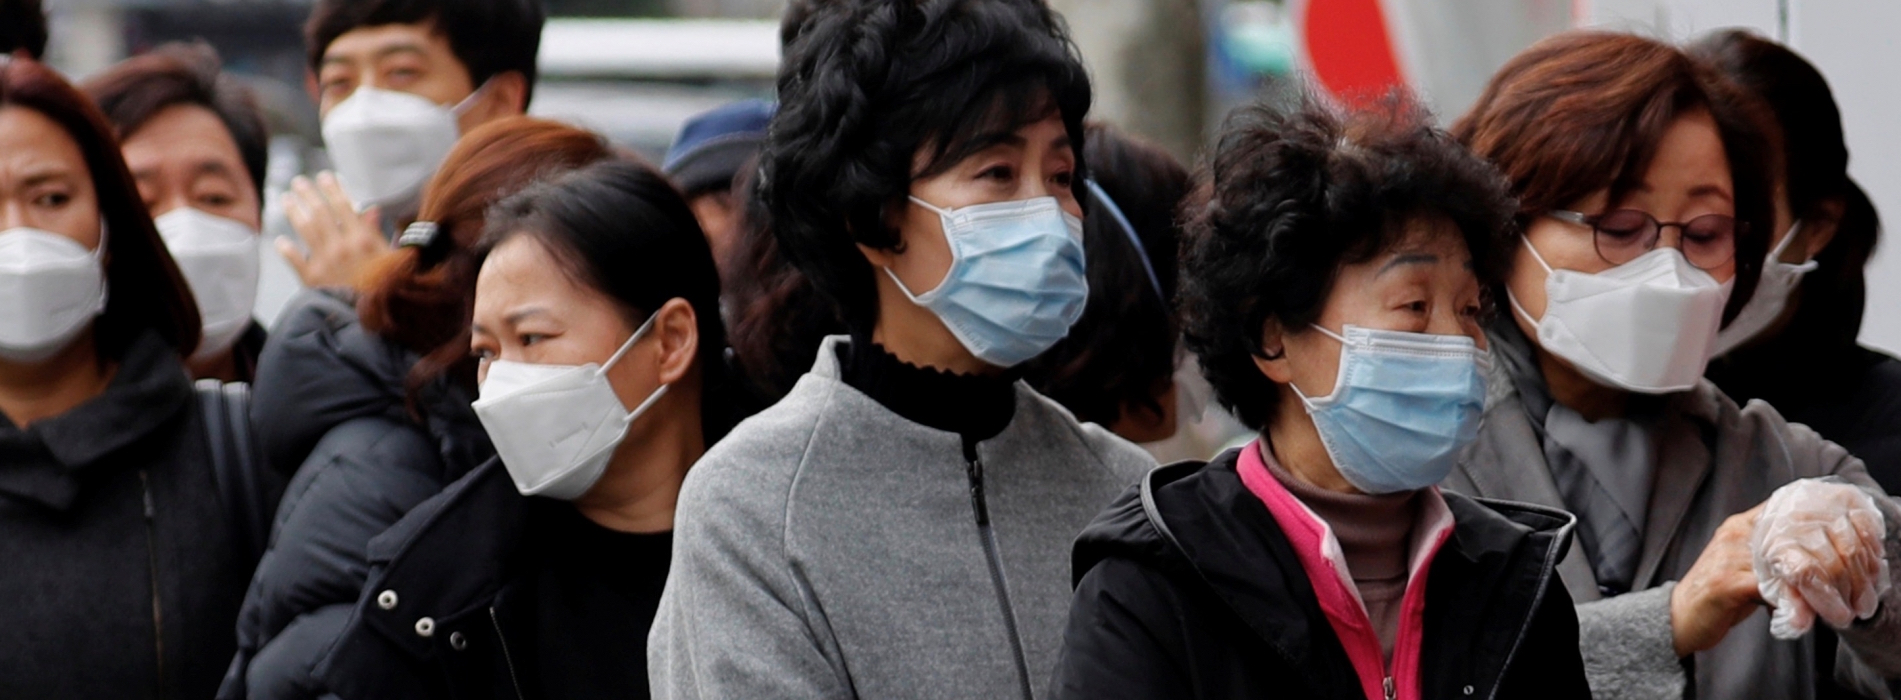with_mask: (1528, 127, 1720, 385), (1294, 244, 1473, 508), (880, 120, 1073, 363), (477, 261, 652, 501), (129, 108, 258, 360), (322, 27, 451, 212), (1, 154, 100, 347)
